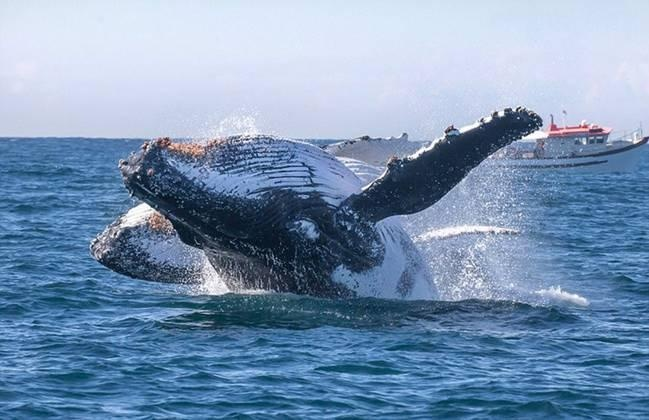fish: (75, 103, 553, 332)
